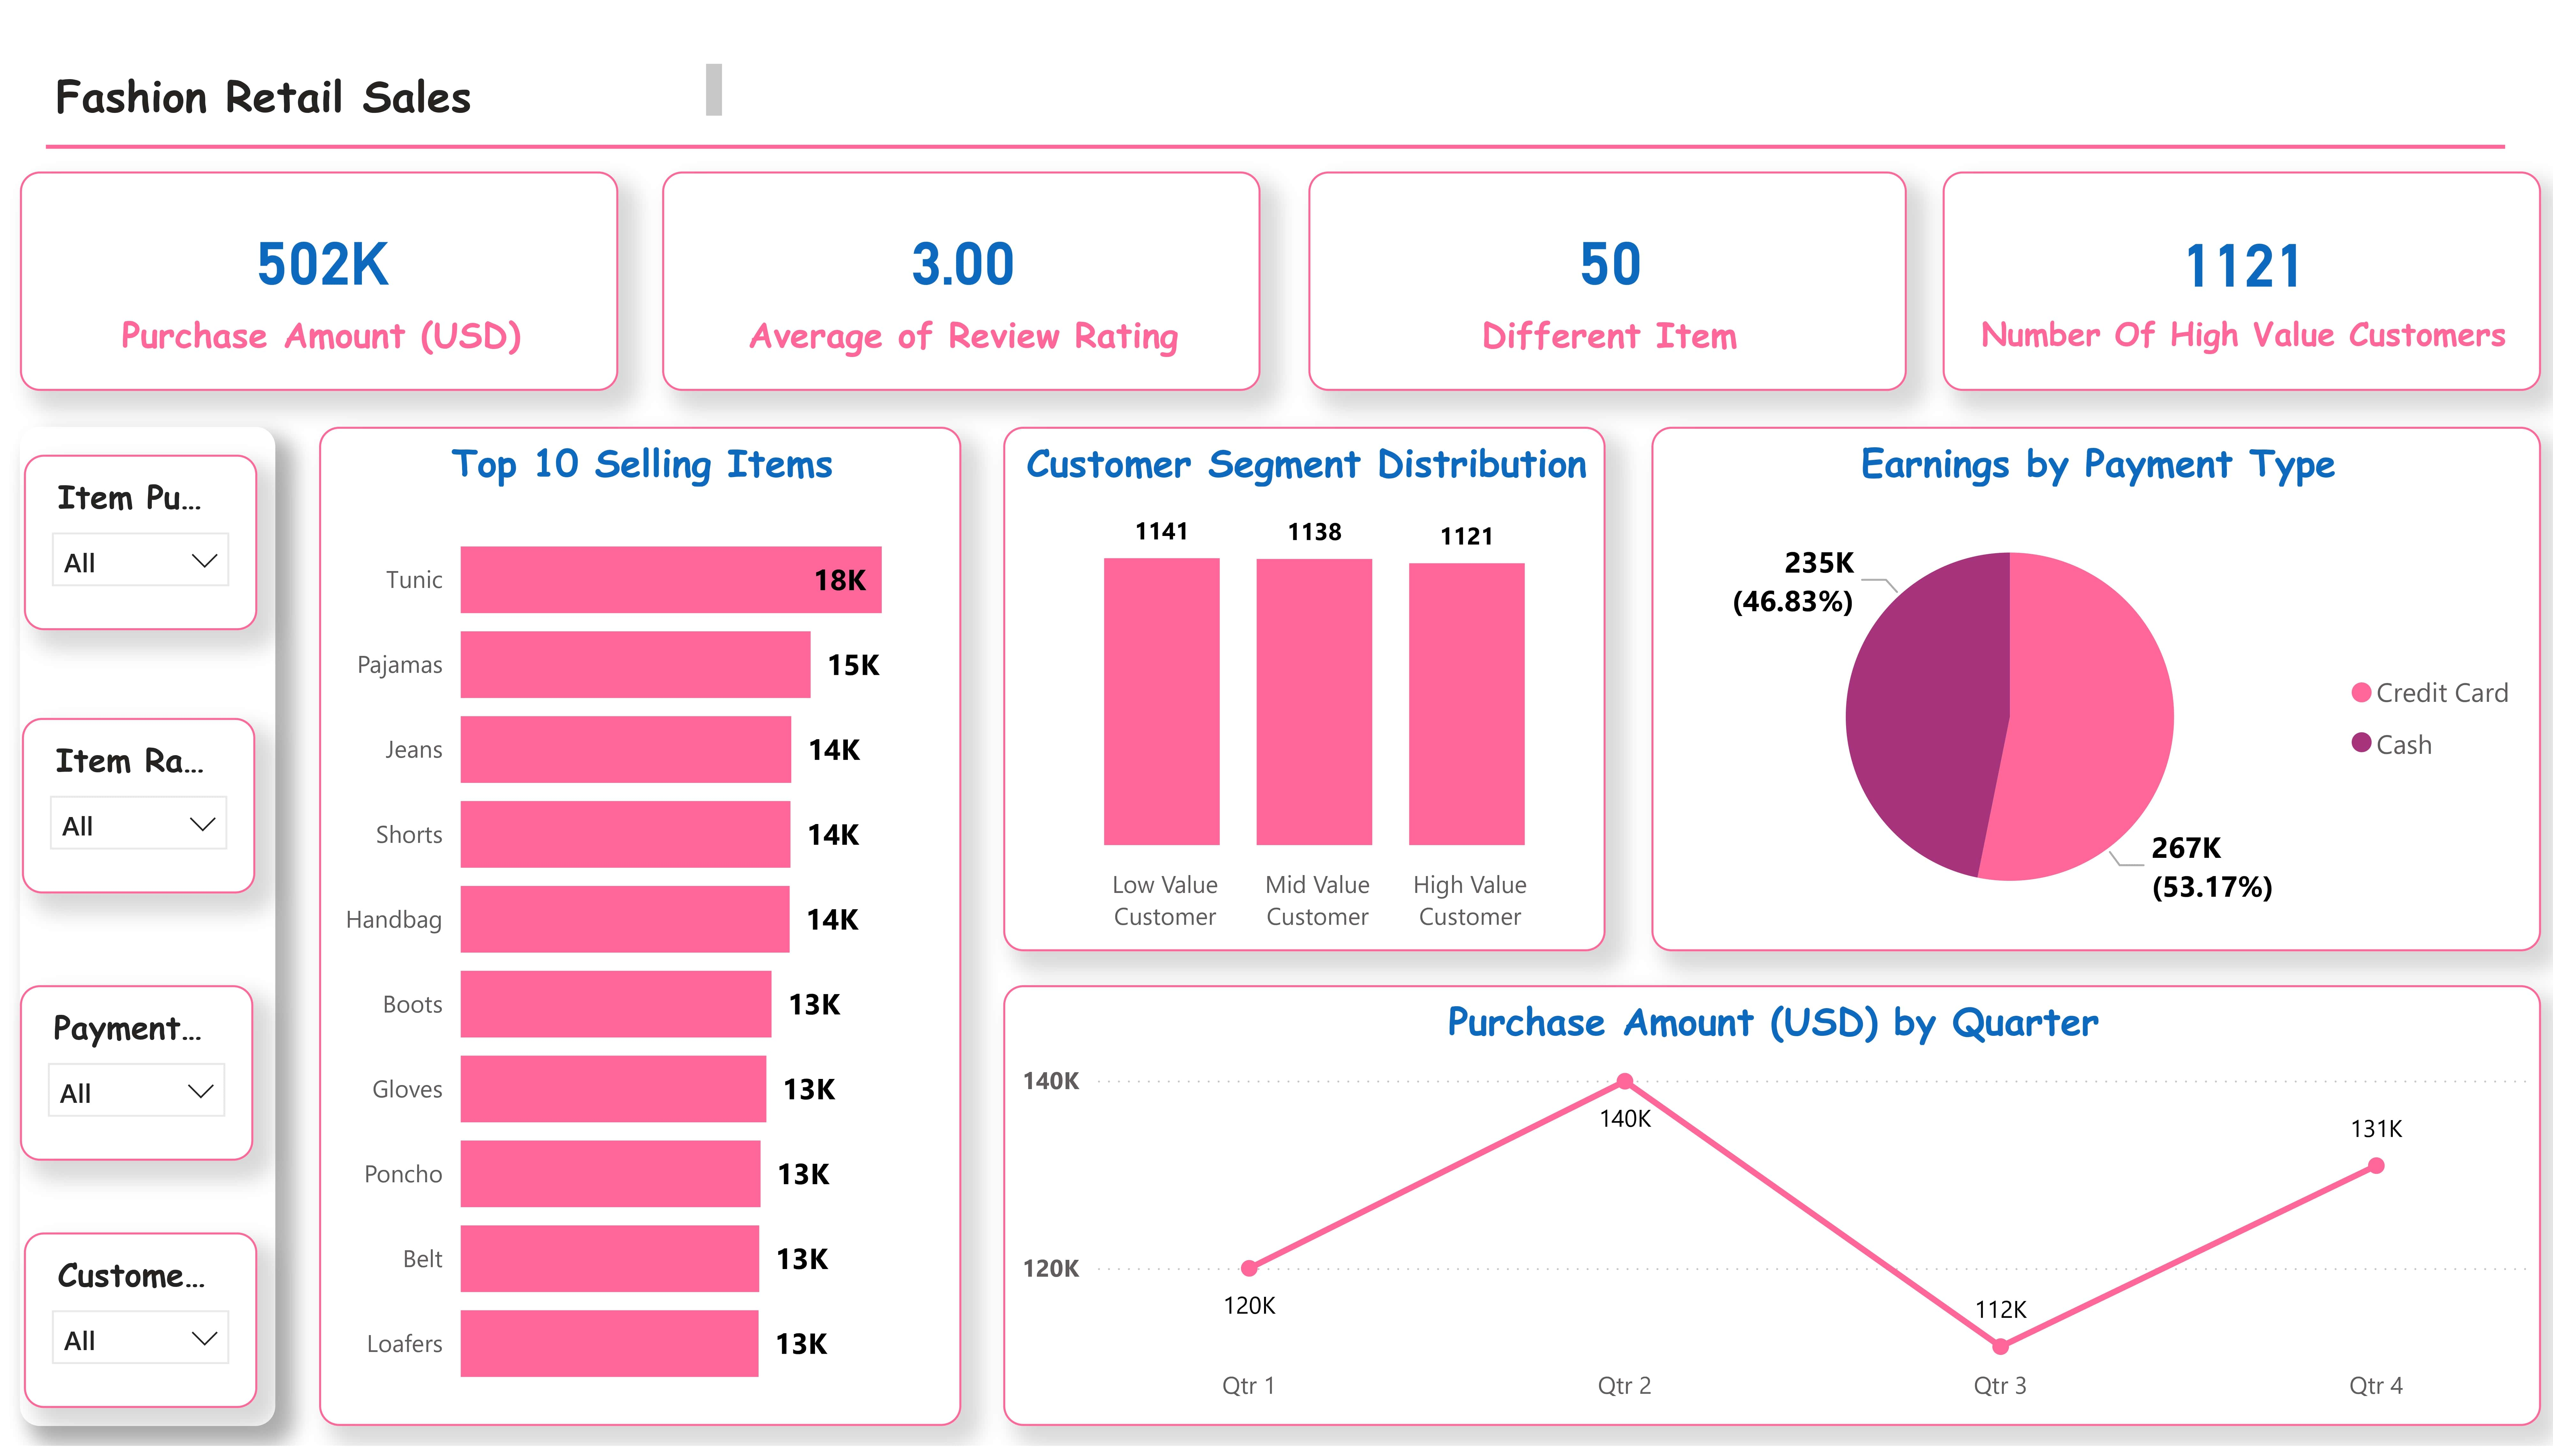

Layout of this report page (visuals, bound fields, positions):
{"tool":"powerbi","page":{"name":"Sales","canvas":[1280,720],"ordinal":0},"visuals":[{"type":"shape","box":[10.5,209.3,127.9,501.1],"z":0},{"type":"slicer","fields":{"Values":["Sheet1 (2).Item Purchased"]},"box":[11.6,223.2,117.4,88.4],"z":1000},{"type":"slicer","fields":{"Values":["Sheet1 (2).Customer Segment"]},"box":[11.6,612.7,117.4,88.4],"z":2000},{"type":"slicer","fields":{"Values":["Sheet1 (2).Payment Method"]},"box":[10.5,489,117.4,88.4],"z":3000},{"type":"slicer","fields":{"Values":["Sheet1 (2).Item Rate Category"]},"box":[11.4,354.8,117.4,88.4],"z":4000},{"type":"card","fields":{"Values":["Sum(Sheet1 (2).Purchase Amount (USD))"]},"box":[10.5,81.4,299.9,110.4],"z":5000},{"type":"card","fields":{"Values":["Avg(Sheet1 (2).Review Rating)"]},"box":[332.5,81.4,299.9,110.4],"z":6000},{"type":"card","fields":{"Values":["Count(Sheet1 (2).Item Purchased)"]},"box":[655.7,81.4,299.9,110.4],"z":7000},{"type":"card","fields":{"Values":["Sheet1 (2).Number Of High Value Customers"]},"box":[974,81,299.9,110.4],"z":8000},{"type":"shape","box":[23.3,0,1233.5,137.2],"z":9000},{"type":"textbox","box":[23.3,22.1,344.1,45.3],"z":10000},{"type":"lineChart","fields":{"Category":["Sheet1 (2).Date Purchase.Variation.Date Hierarchy.Quarter","Sheet1 (2).Date Purchase.Variation.Date Hierarchy.Month","Sheet1 (2).Date Purchase.Variation.Date Hierarchy.Day"],"Y":["Sum(Sheet1 (2).Purchase Amount (USD))"]},"box":[503.4,489.4,770.8,220.9],"z":11000},{"type":"clusteredColumnChart","title":"Customer Segment Distribution","fields":{"Category":["Sheet1 (2).Customer Segment"],"Y":["CountNonNull(Sheet1 (2).Item Purchased)"]},"box":[503.4,209.3,302.3,262.7],"z":12000},{"type":"pieChart","title":"Earnings by Payment Type","fields":{"Category":["Sheet1 (2).Payment Method"],"Y":["Sum(Sheet1 (2).Purchase Amount (USD))"]},"box":[827.8,209.3,446.4,262.7],"z":13000},{"type":"clusteredBarChart","title":"Top 10 Selling Items","fields":{"Category":["Sheet1 (2).Item Purchased"],"Y":["Sum(Sheet1 (2).Purchase Amount (USD))"]},"box":[160.4,209.3,322,501.1],"z":14000}]}

Visuals, with their boxes in screenshot pixels (x1, y1, x2, y2), scaled from the page's 1280x720 canvas onto the 2553x1456 screenshot:
shape: 21,423,276,1437
slicer - Sheet1 (2).Item Purchased: 23,451,257,630
slicer - Sheet1 (2).Customer Segment: 23,1239,257,1418
slicer - Sheet1 (2).Payment Method: 21,989,255,1168
slicer - Sheet1 (2).Item Rate Category: 23,717,257,896
card - Sum(Sheet1 (2).Purchase Amount (USD)): 21,165,619,388
card - Avg(Sheet1 (2).Review Rating): 663,165,1261,388
card - Count(Sheet1 (2).Item Purchased): 1308,165,1906,388
card - Sheet1 (2).Number Of High Value Customers: 1943,164,2541,387
shape: 47,0,2507,278
textbox: 47,45,733,136
lineChart - Sheet1 (2).Date Purchase.Variation.Date Hierarchy.Quarter x Sheet1 (2).Date Purchase.Variation.Date Hierarchy.Month: 1004,990,2542,1437
"Customer Segment Distribution" clusteredColumnChart: 1004,423,1607,955
"Earnings by Payment Type" pieChart: 1651,423,2542,955
"Top 10 Selling Items" clusteredBarChart: 320,423,962,1437
